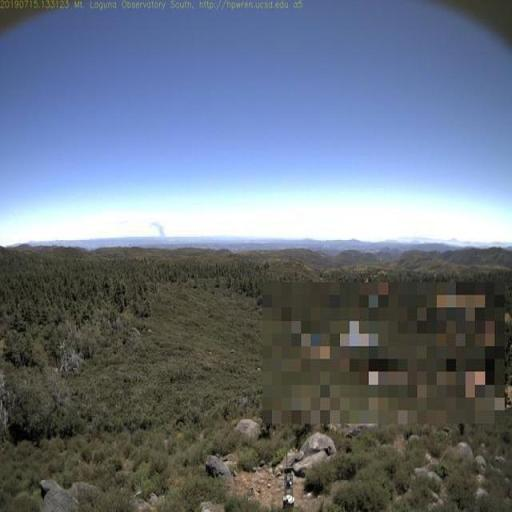smoke: (147, 218, 169, 243)
